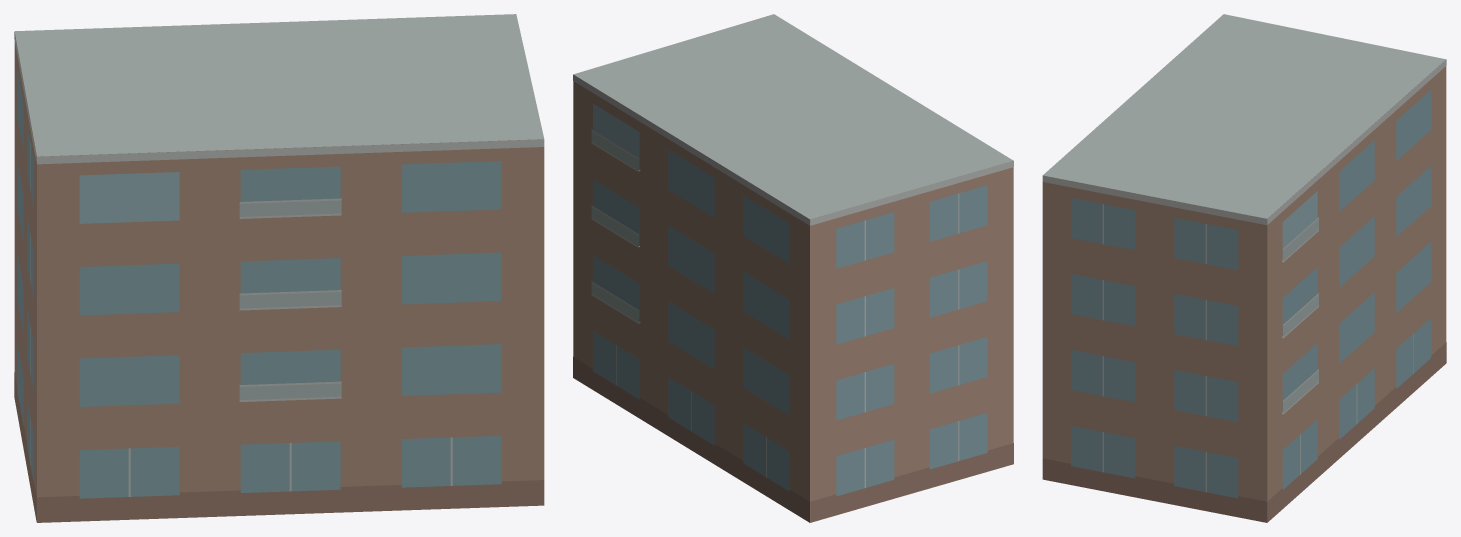
Rendered from survey-upis-32553149.glb.
The picture shows the model from 3 angles, left to right: view 1: azimuth 30°, elevation 25°; view 2: azimuth 150°, elevation 25°; view 3: azimuth 270°, elevation 25°; orthographic projection. The views are drawn at different scales.
Parts seen in each view (by area): view 1: survey-upis-32553149.tmp; view 2: survey-upis-32553149.tmp; view 3: survey-upis-32553149.tmp.
Boxes of the visible parts, x1,y1,x2,y2 form: survey-upis-32553149.tmp: (14, 14, 544, 522); survey-upis-32553149.tmp: (573, 14, 1013, 522); survey-upis-32553149.tmp: (1042, 14, 1446, 522).
Bounding box in the file's own units: 16.62 × 11.5 × 13.85.
